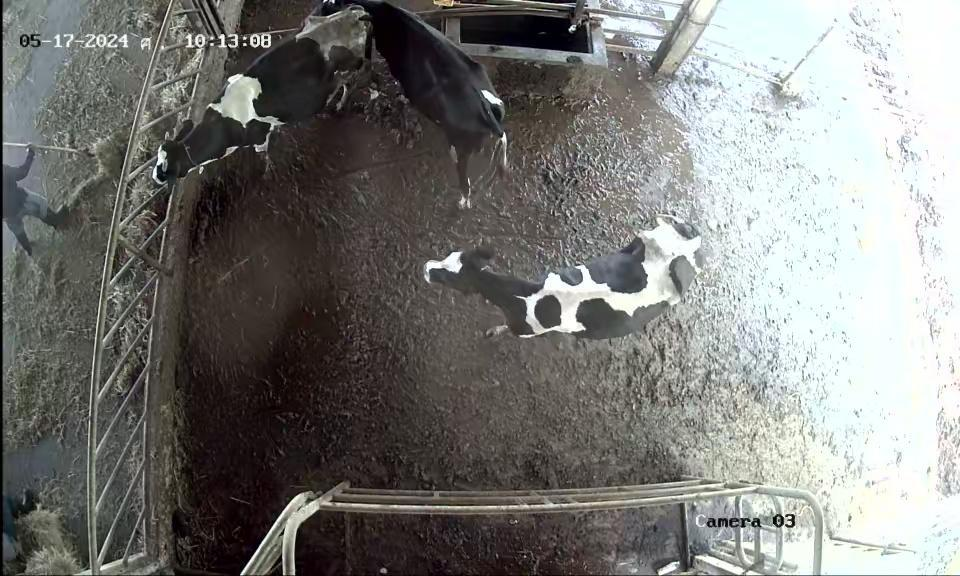stand: (419, 210, 727, 370), (148, 4, 379, 213), (351, 0, 517, 215)
